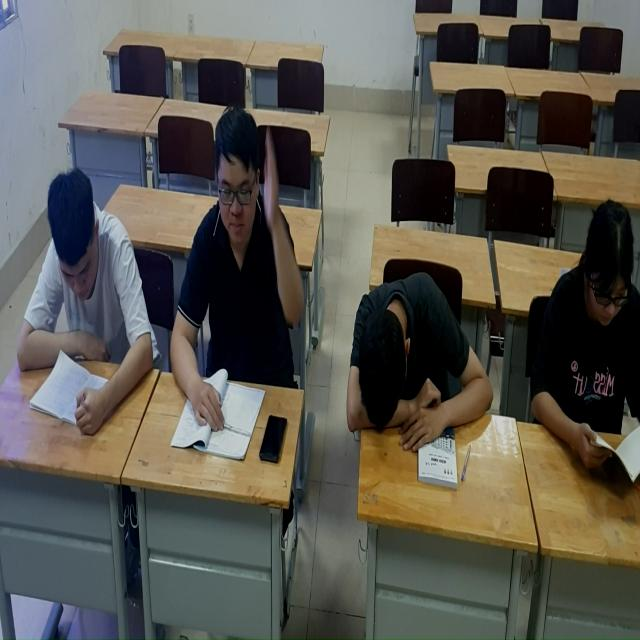raise_hand: (171, 100, 305, 453)
read: (8, 156, 163, 442), (514, 204, 640, 502)
sleep: (342, 270, 499, 468)
